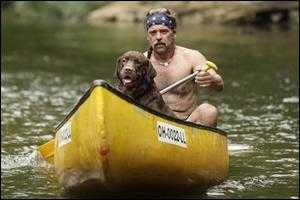kayak: (36, 81, 230, 191)
